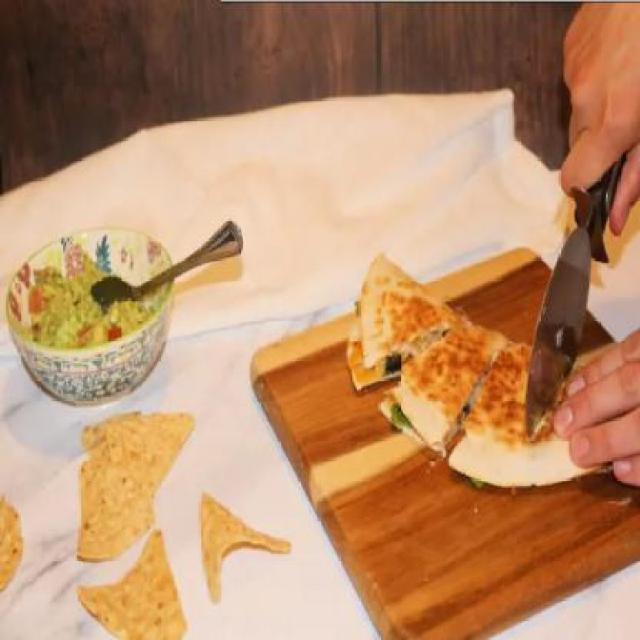chicken quesadilla: (342, 236, 640, 515)
guacamole: (5, 219, 177, 395)
